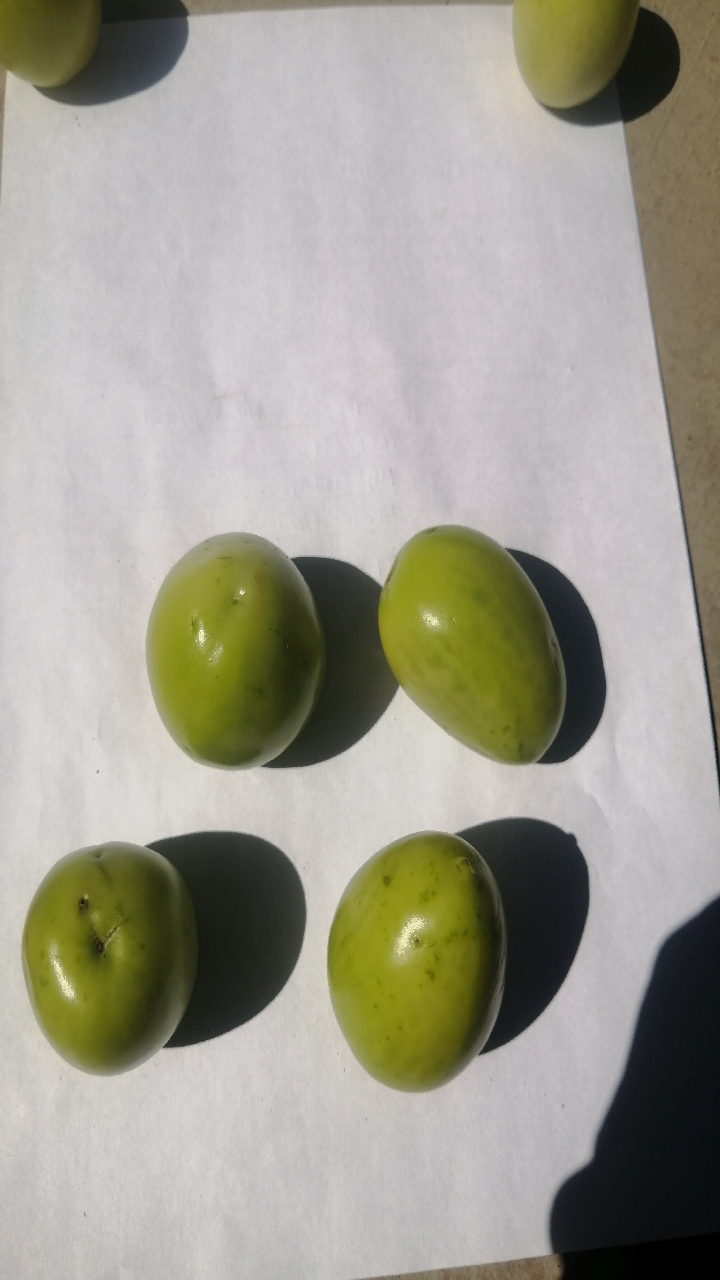tomateVerde: (281, 803, 524, 1112), (123, 485, 348, 789), (9, 823, 229, 1112), (364, 505, 571, 794)
